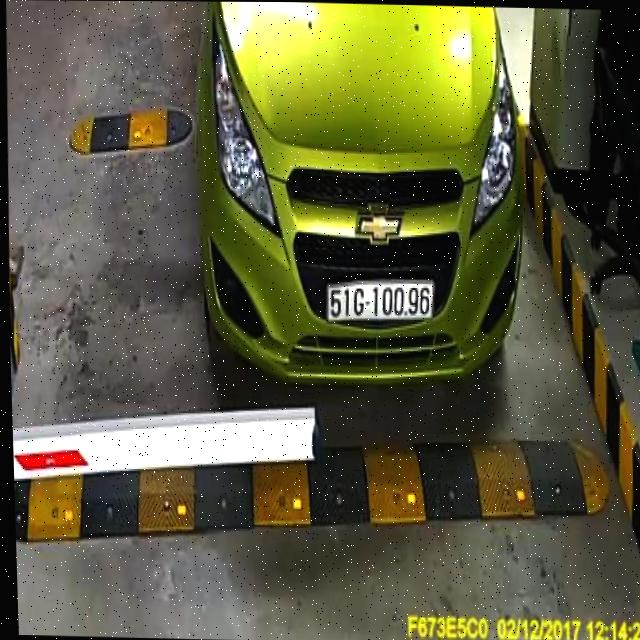car: (180, 1, 536, 403)
plate: (314, 276, 443, 329)
